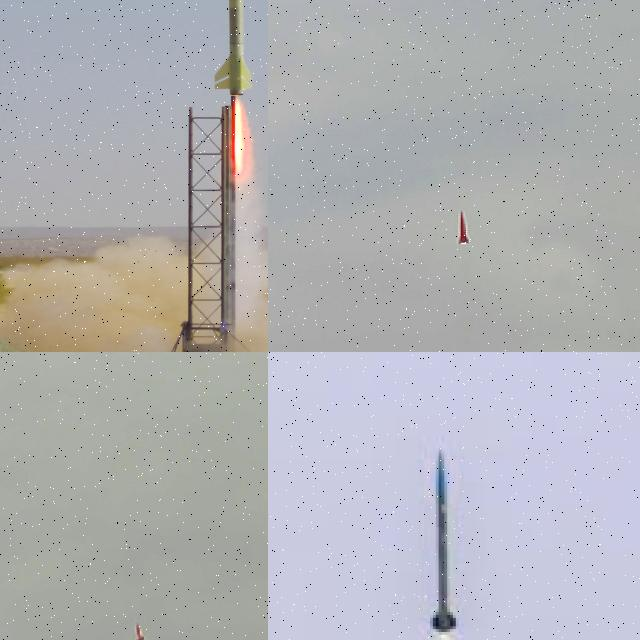Rocket: (424, 444, 463, 639), (215, 0, 253, 96), (457, 210, 471, 244), (133, 622, 145, 640)
